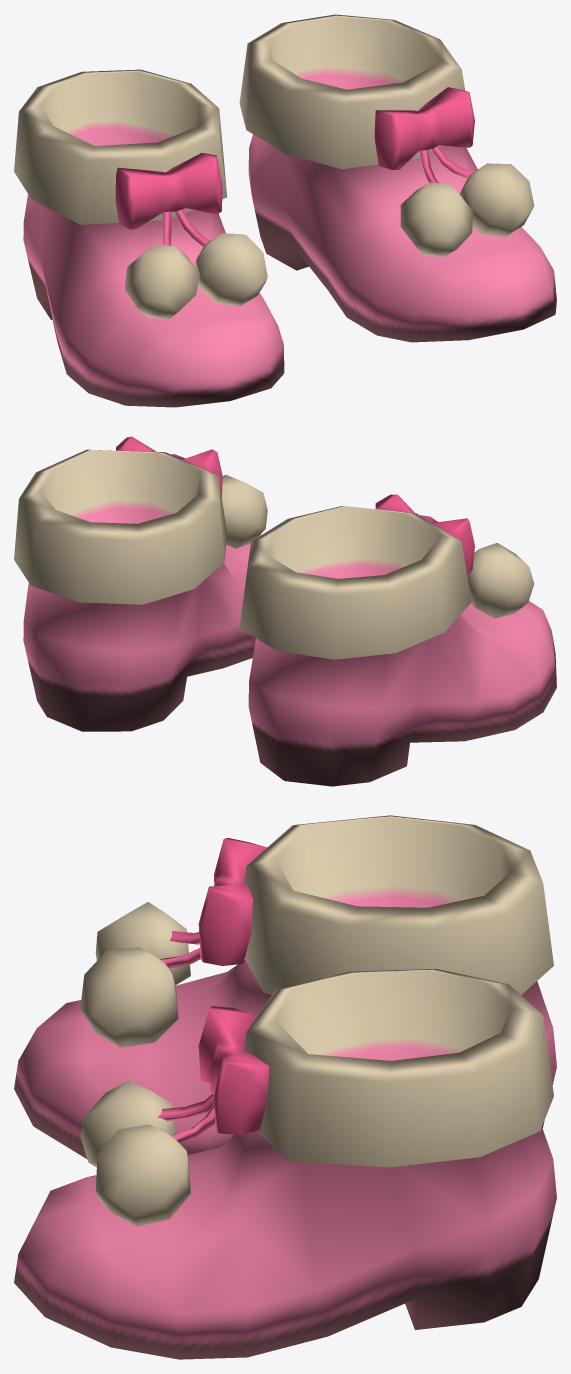
Rendered from ShoesHighcutBobbles0.glb.
3 renders of one model, top to bottom at view 1: azimuth 30°, elevation 25°; view 2: azimuth 150°, elevation 25°; view 3: azimuth 270°, elevation 25°, orthographic. The views are drawn at different scales.
Visible parts, largest first — view 1: Body__mShoes; view 2: Body__mShoes; view 3: Body__mShoes.
Part boxes in pixels (<box>): Body__mShoes: <box>14,14,556,407</box>; Body__mShoes: <box>14,436,556,786</box>; Body__mShoes: <box>14,815,556,1359</box>.
Size of the model in its own units: 3.33 by 1.41 by 2.54.
Materials: 1 (1 with a texture image).
